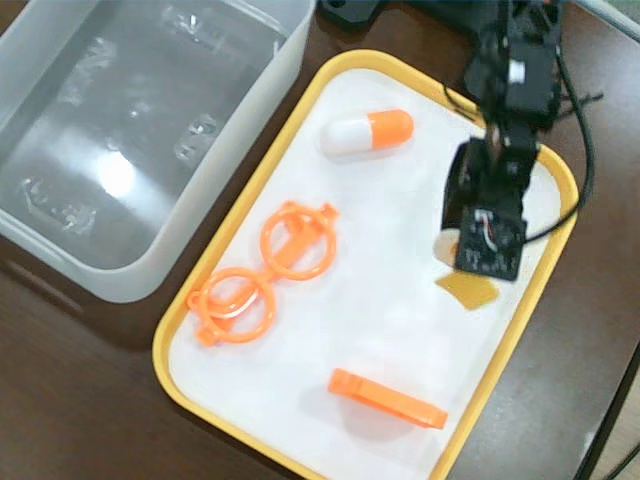pill: (321, 107, 415, 157)
